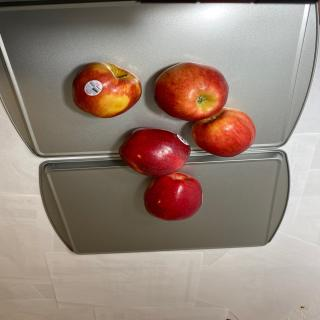Apple: (154, 62, 229, 121), (72, 62, 142, 118), (118, 128, 191, 178), (191, 108, 256, 158), (143, 172, 203, 221)
